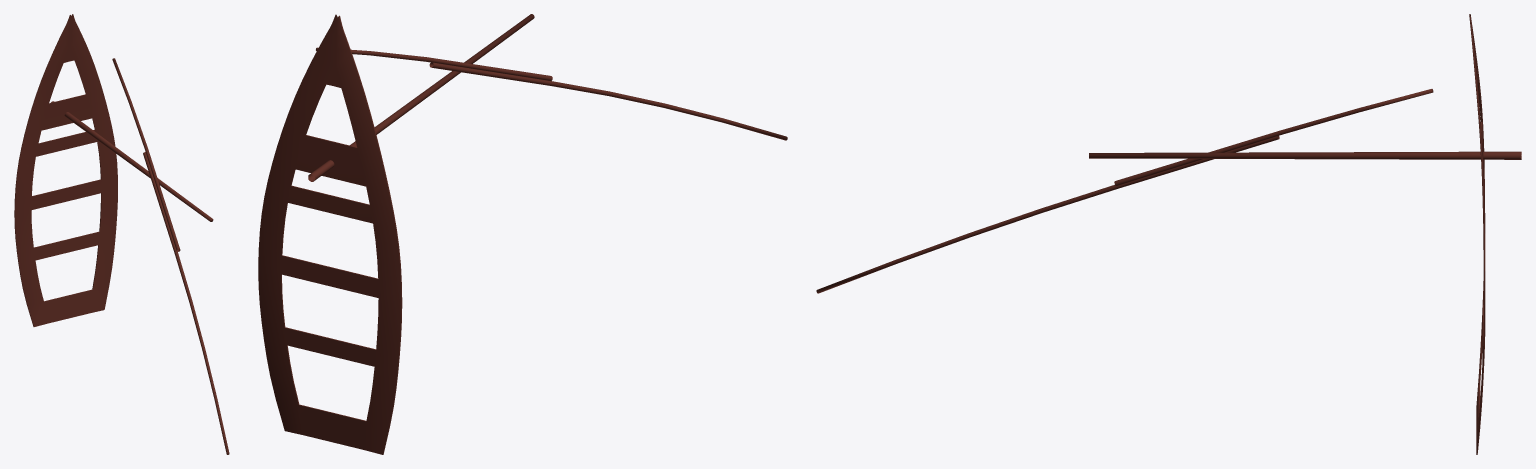
3 views of the same model, side by side, from view 1: azimuth 30°, elevation 25°; view 2: azimuth 150°, elevation 25°; view 3: azimuth 270°, elevation 25° (orthographic). The views are drawn at different scales.
Visible parts, largest first — view 1: pont, antenne, mat; view 2: pont, antenne, mat; view 3: antenne, mat, pont.
Part boxes in pixels (x1,y1,x2,y2): pont: [14, 14, 117, 326]; antenne: [112, 58, 229, 454]; mat: [51, 101, 213, 221]; pont: [258, 14, 402, 454]; antenne: [316, 47, 787, 140]; mat: [308, 14, 534, 181]; antenne: [816, 89, 1433, 293]; mat: [1089, 151, 1521, 159]; pont: [1469, 14, 1485, 454].
Size of the model in its own units: 3.09 by 6.63 by 10.18.
